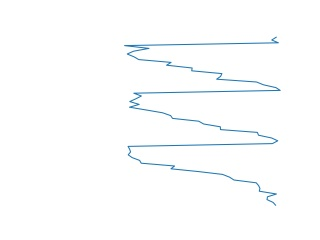distributaryMouthBar: (121, 35, 284, 207)
